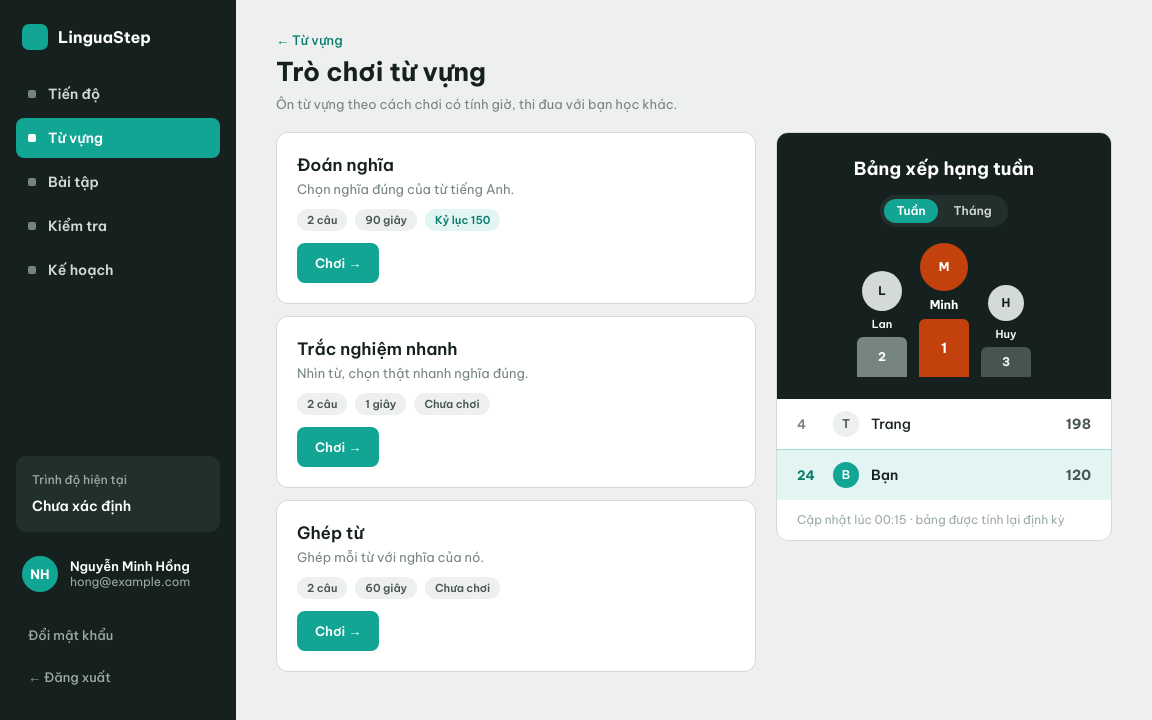
Test: games page › shows the weekly leaderboard with the podium and the learner’s own rank, and switches to the month
Check: the list named "Các hạng tiếp theo" shows "Trang", box top-left (871, 415), bottom-right (911, 433)
Check: the list named "Hạng của bạn" reads "24 B Bạn 120", box top-left (777, 449), bottom-right (1111, 500)
Step 1. Click the button "Tháng" → (973, 211), box top-left (942, 199), bottom-right (1004, 223)
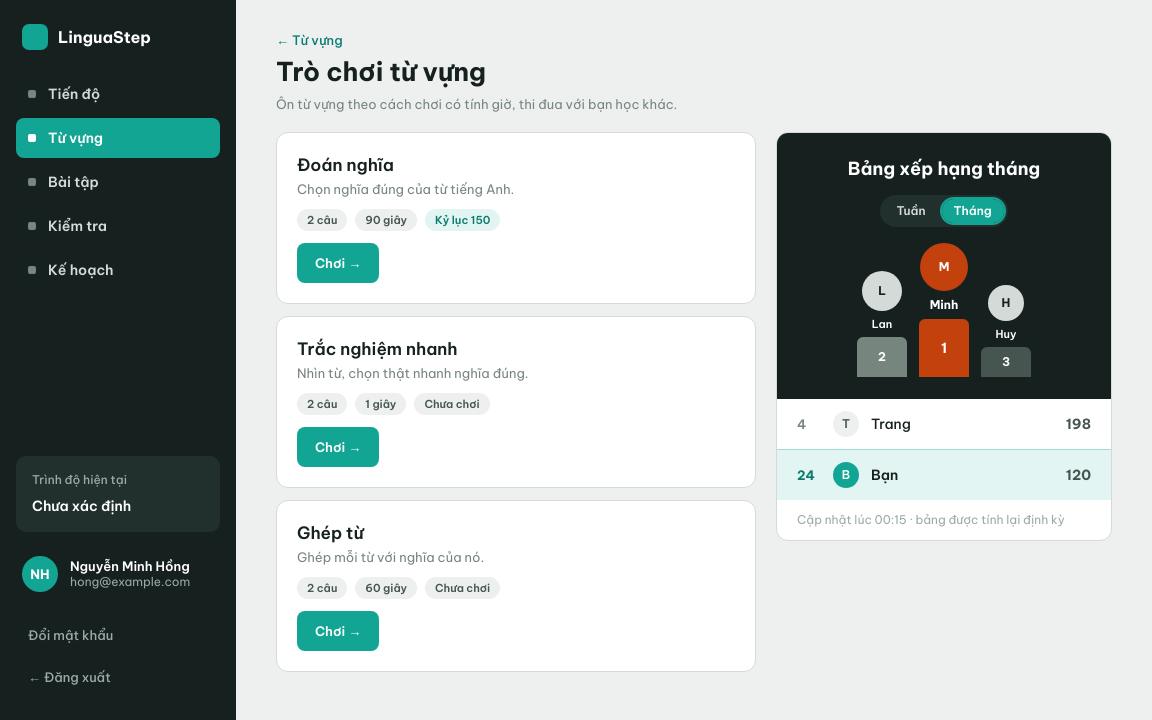
Check: the heading "Bảng xếp hạng tháng" is shown, box top-left (848, 155), bottom-right (1040, 183)
